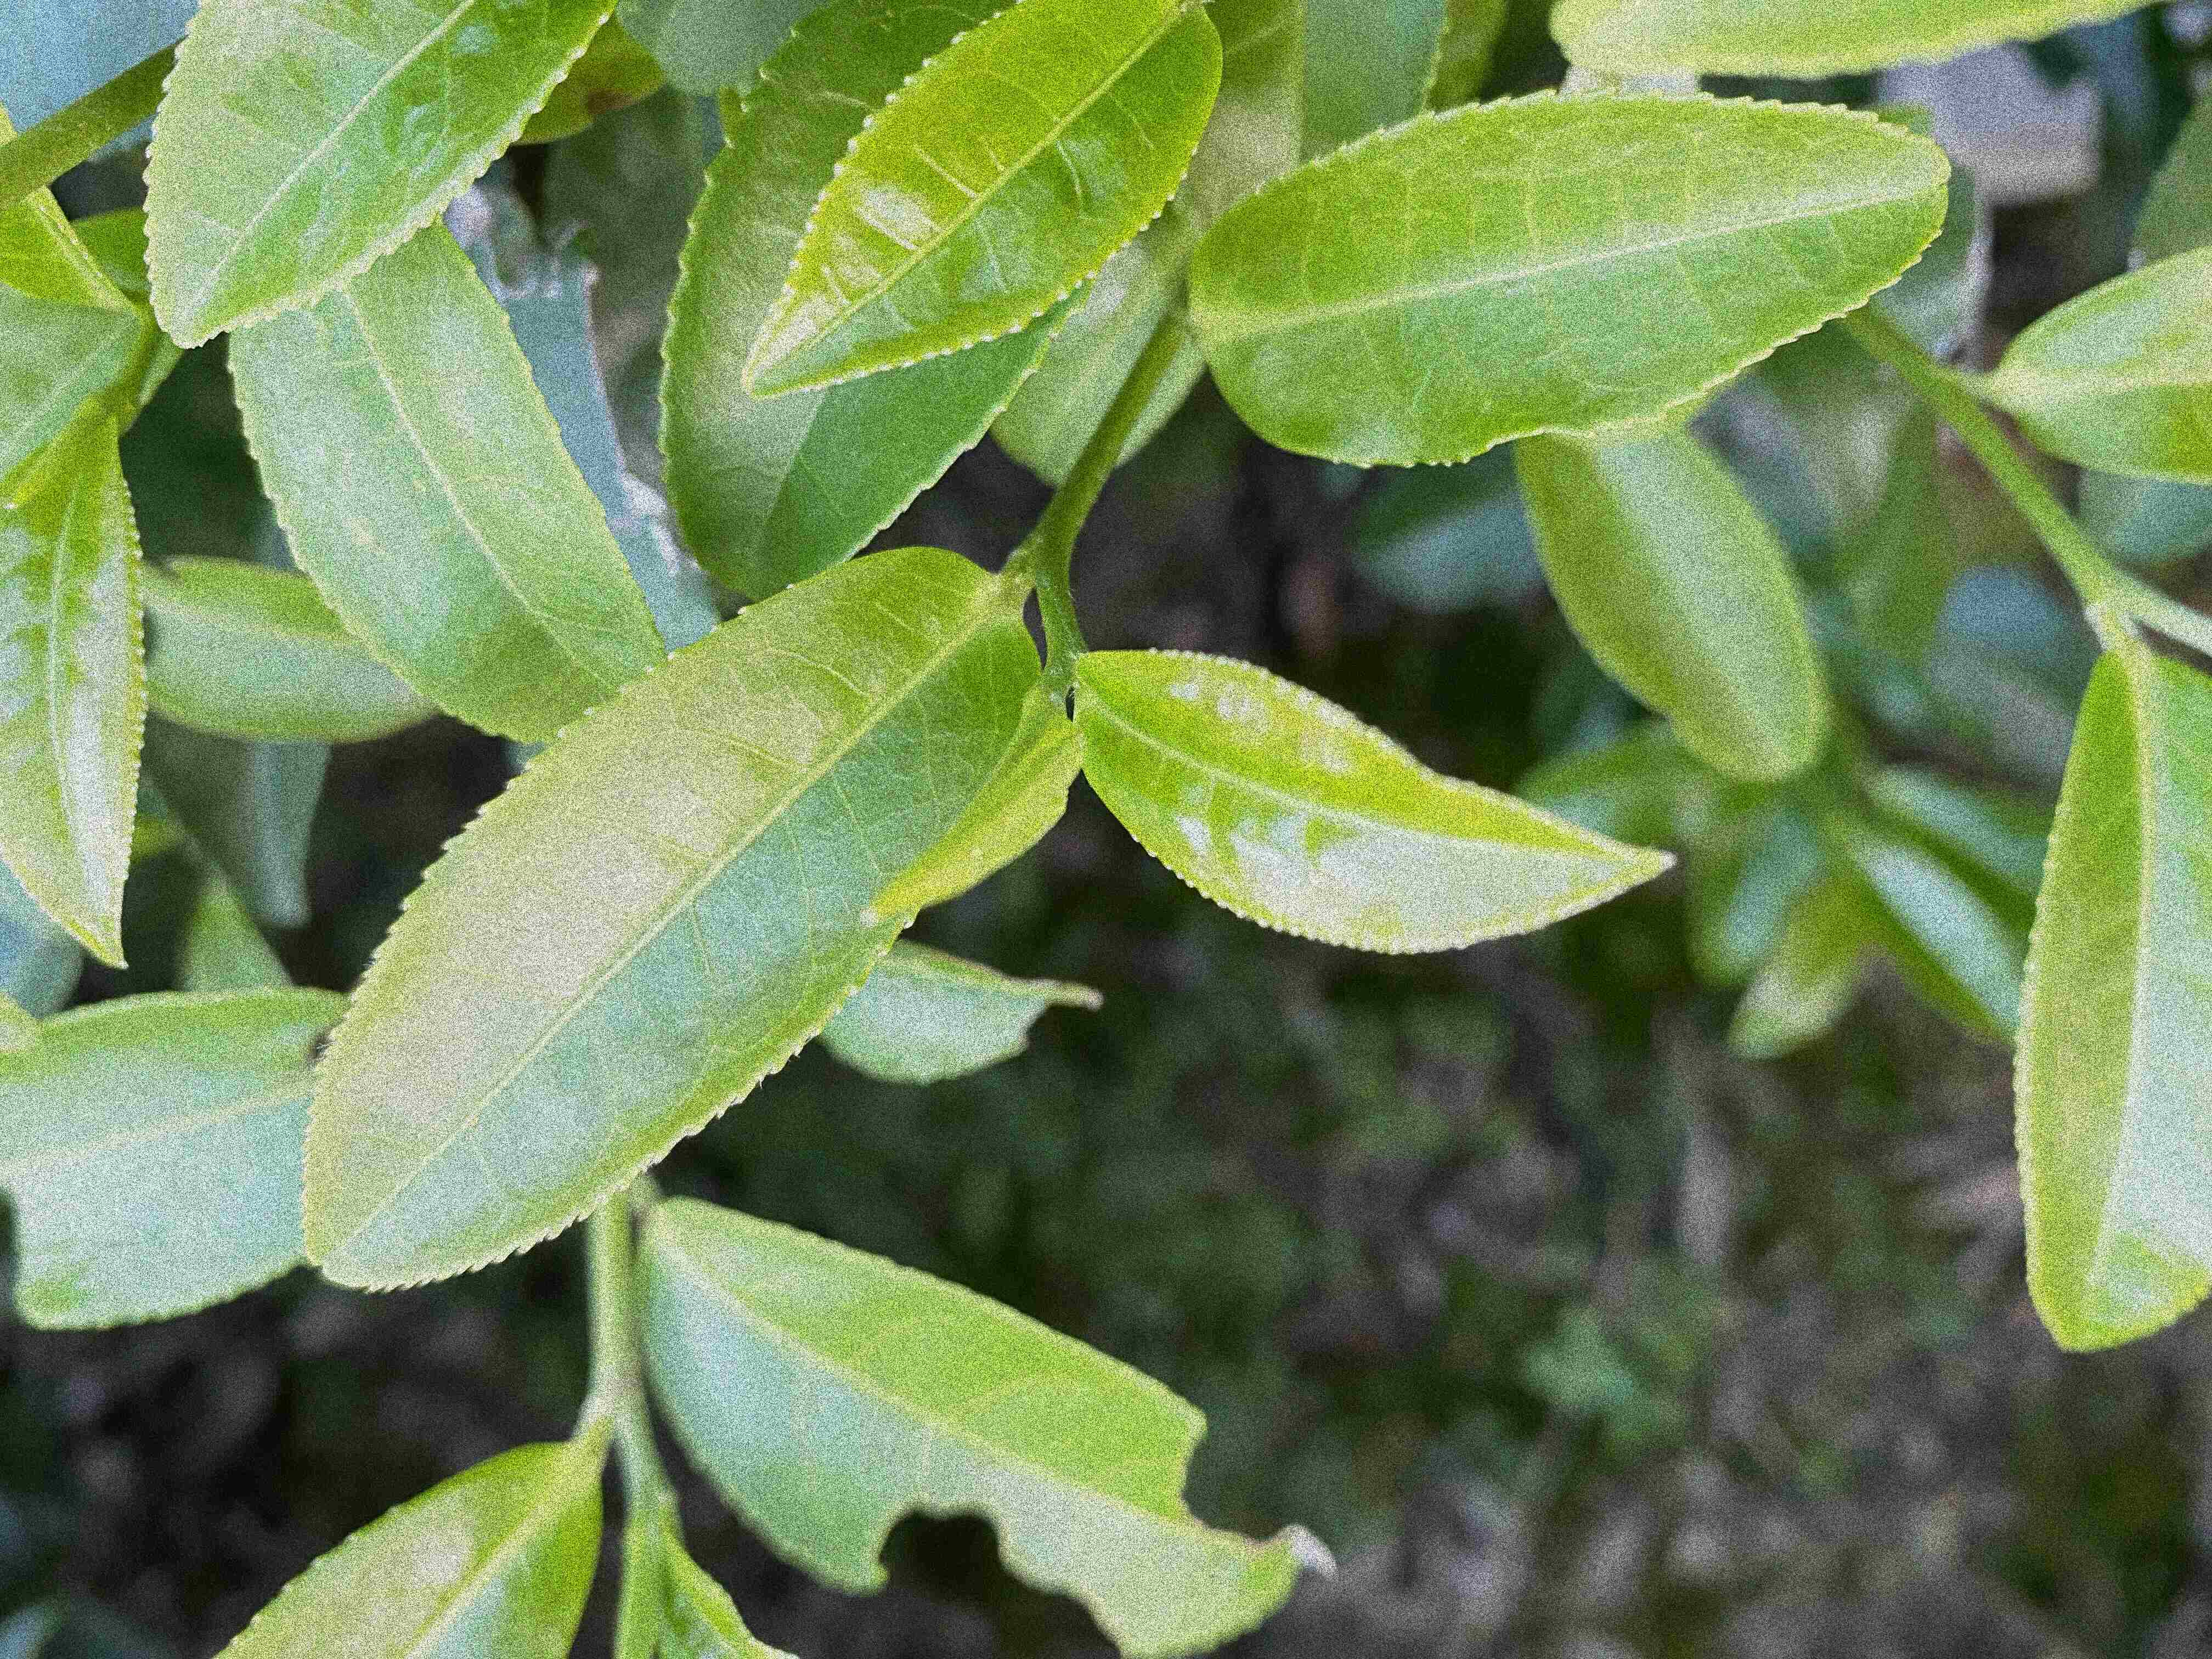chihuo_high: (634, 1197, 1341, 1654), (5, 979, 369, 1333)
healthy: (300, 544, 1043, 1293), (1183, 89, 1954, 471), (219, 220, 665, 748), (740, 5, 1228, 399), (1071, 647, 1676, 958), (139, 5, 618, 349), (2006, 648, 2209, 1356), (3, 418, 152, 972)
